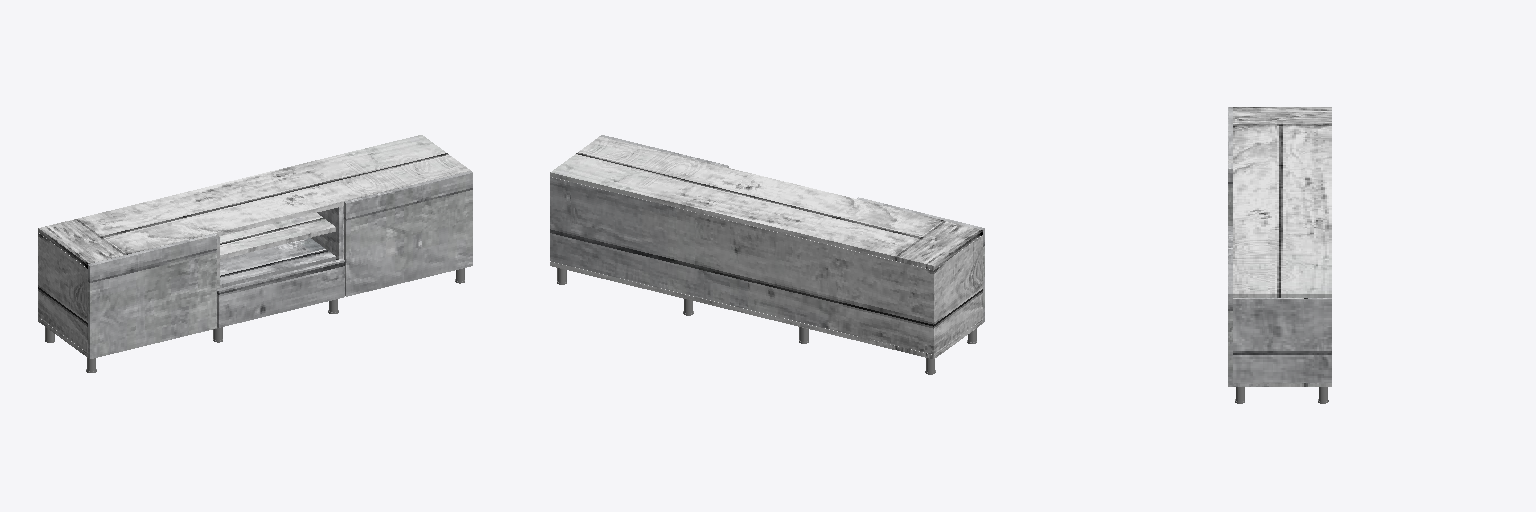
3 views of the same model, side by side, from view 1: azimuth 30°, elevation 25°; view 2: azimuth 150°, elevation 25°; view 3: azimuth 270°, elevation 25° (orthographic).
Parts seen in each view (by area): view 1: Cube_001, Circle_002; view 2: Cube_001, Circle_002; view 3: Cube_001.
Boxes of the visible parts, box(x1,y1,x2,y2) form: Cube_001: box(38, 135, 472, 358); Circle_002: box(45, 268, 464, 372); Cube_001: box(550, 135, 984, 359); Circle_002: box(557, 268, 976, 374); Cube_001: box(1228, 107, 1331, 386).
Size of the model in its own units: 4.84 by 1.34 by 1.13.
Materials: 2 (1 with a texture image).